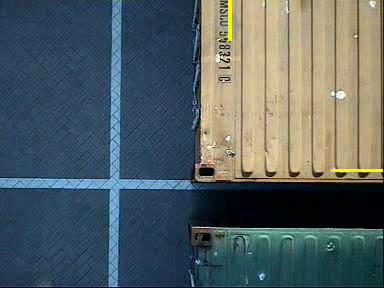groundmarker_2: (109, 242, 172, 279), (107, 95, 170, 131)
